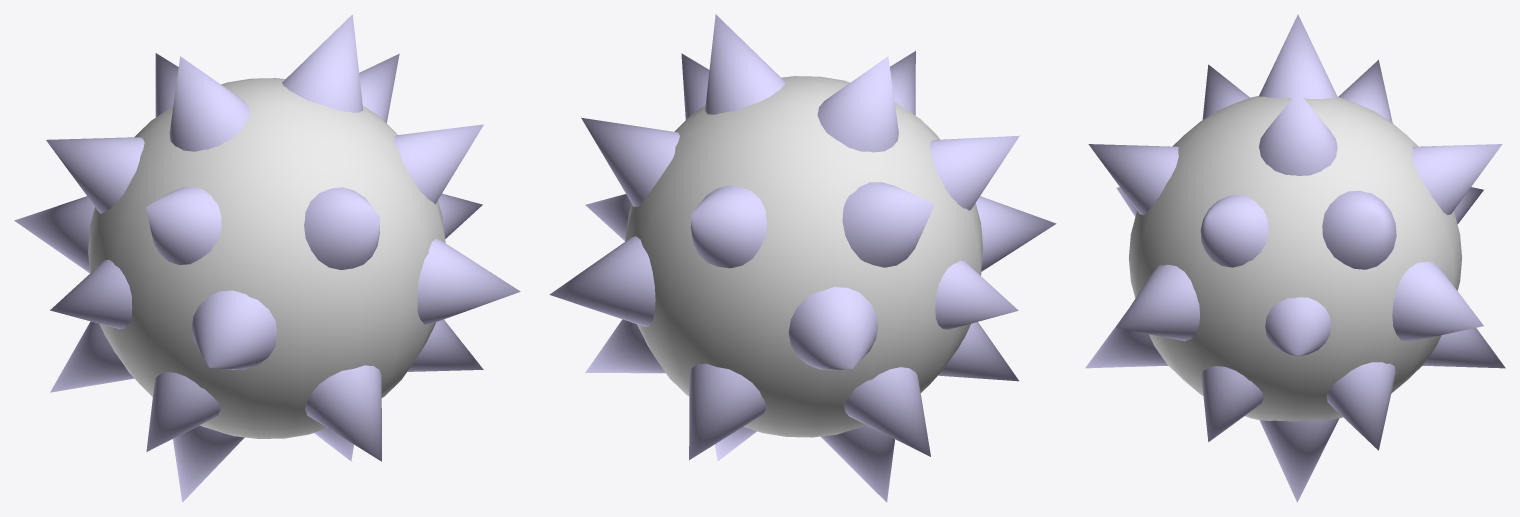
The model's file is Withdrawal_2.fbx.
3 views of the same model, side by side, from view 1: azimuth 30°, elevation 25°; view 2: azimuth 150°, elevation 25°; view 3: azimuth 270°, elevation 25° (orthographic). The views are drawn at different scales.
Visible parts, largest first — view 1: Withdrawal_2; view 2: Withdrawal_2; view 3: Withdrawal_2.
Boxes of the visible parts, x1,y1,x2,y2 form: Withdrawal_2: (14,14,520,502); Withdrawal_2: (549,14,1056,502); Withdrawal_2: (1085,14,1505,502).
Size of the model in its own units: 2.79 by 2.75 by 2.55.
